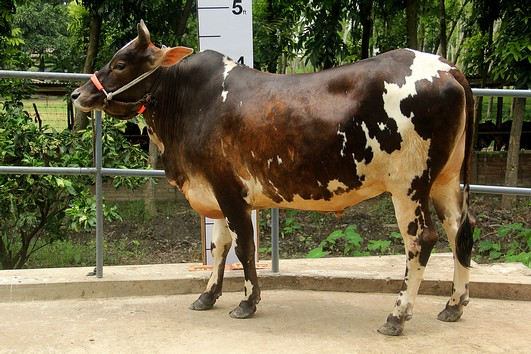cow: (69, 28, 477, 329)
